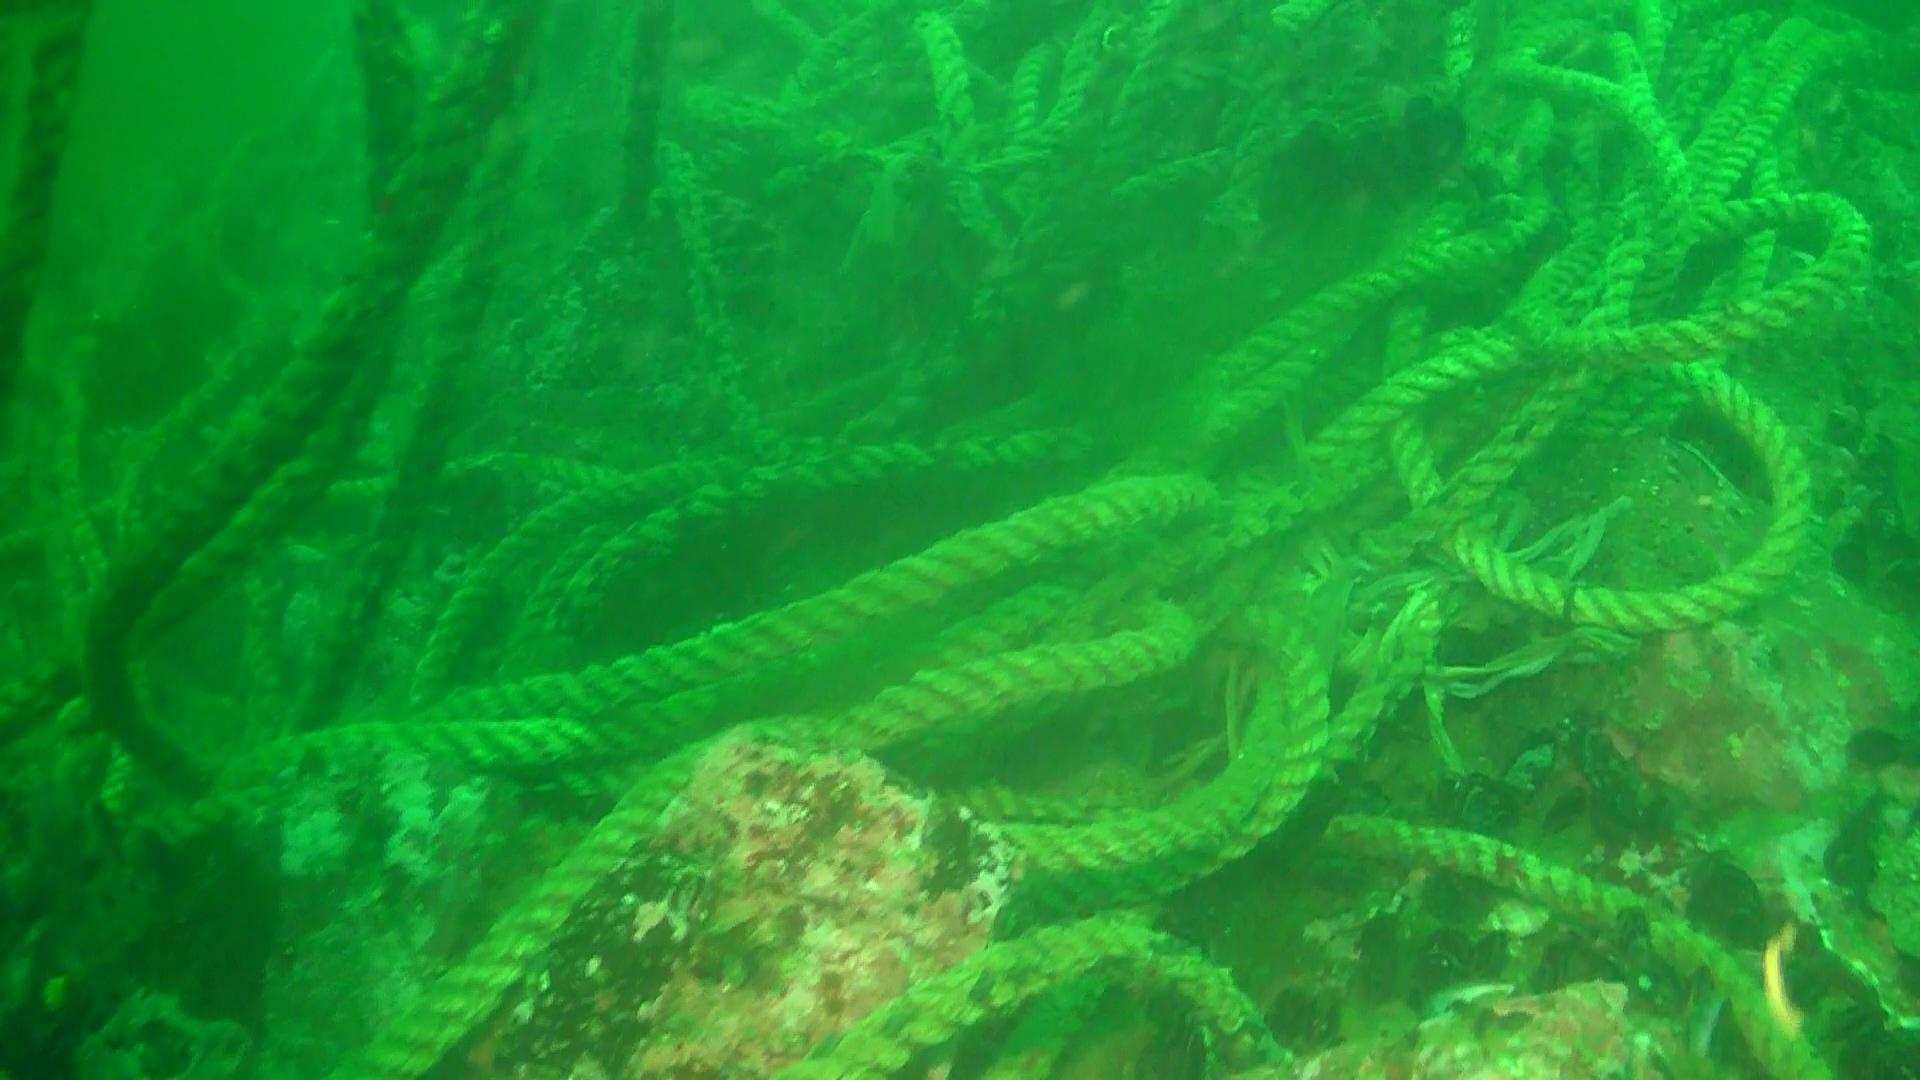bundle of ropes: (0, 0, 1873, 1080)
